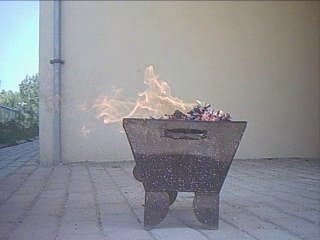fire: (83, 63, 224, 123)
